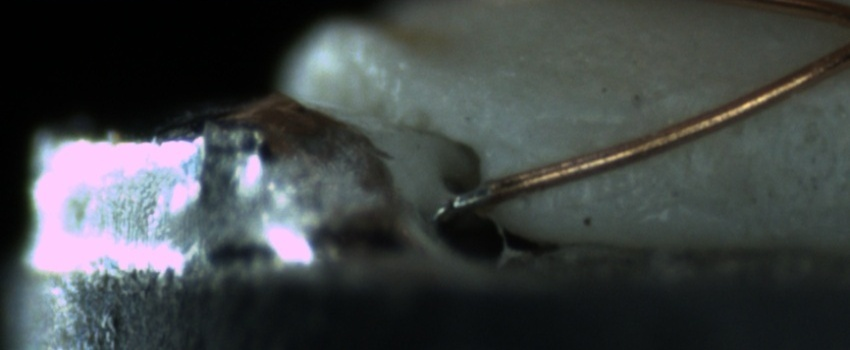DL: (517, 97, 642, 153)
TS: (440, 181, 496, 217)
